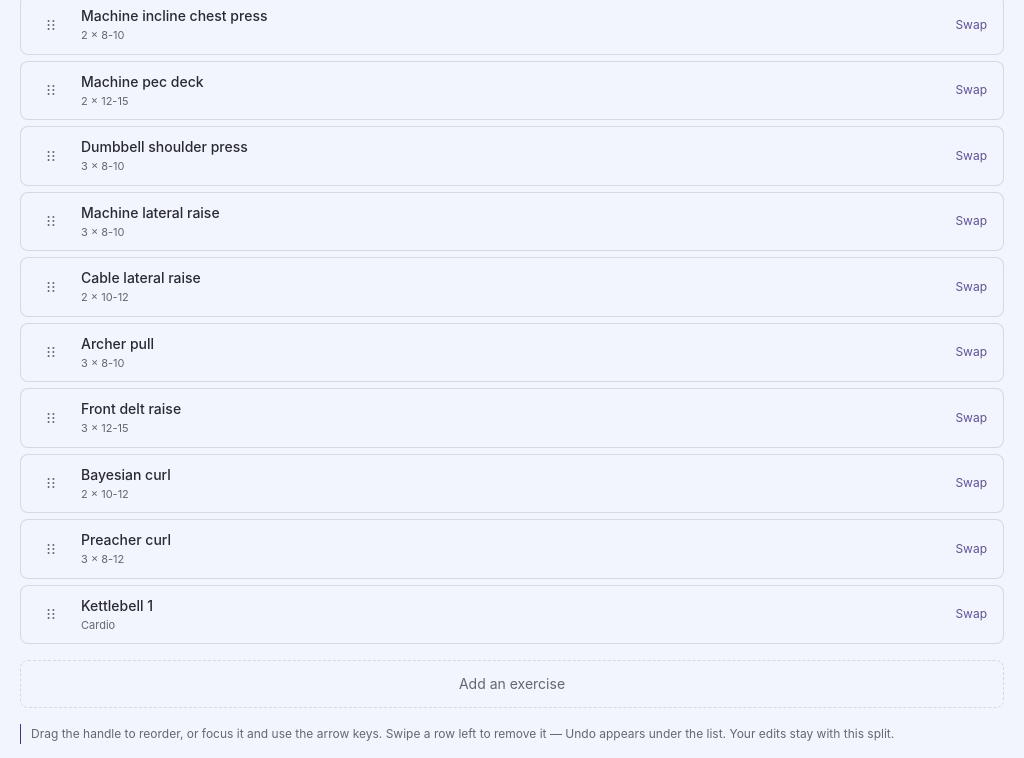
Test: the split editor › asks for no rep target on a cardio movement
(page scrolled)
Click the button "Kettlebell 1 Cardio".
click(117, 605)  # box left=81, top=592, right=939, bottom=637
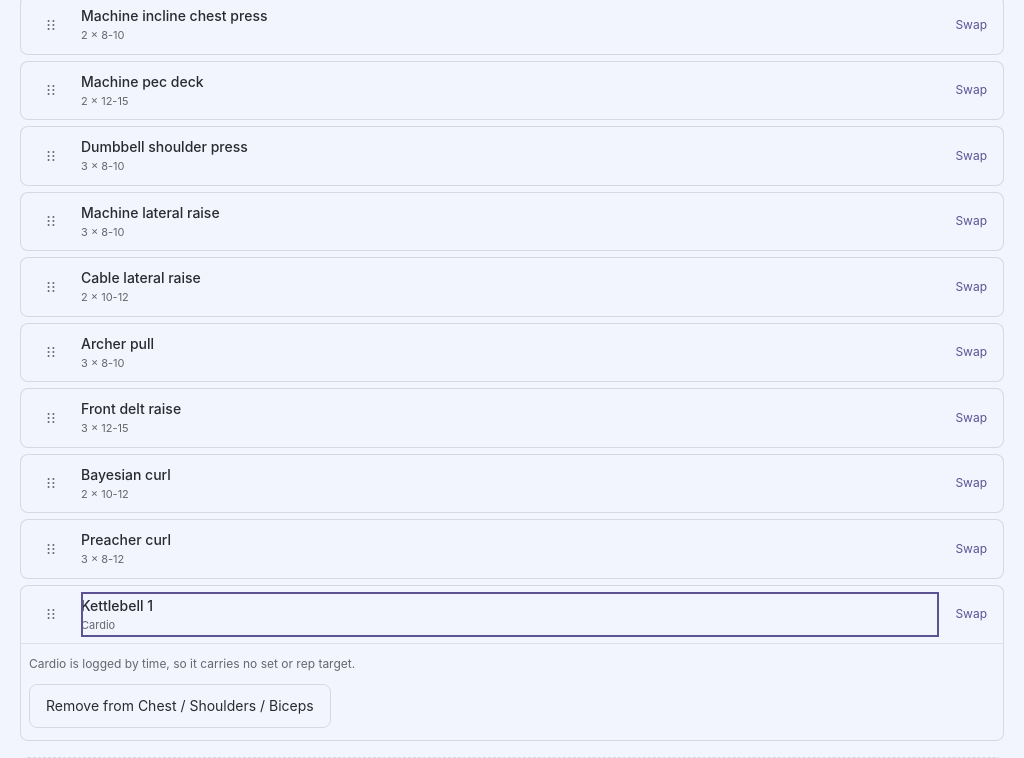
Check: the text "Cardio is logged by time, so it carries no set or rep target." is shown, box left=29, top=656, right=355, bottom=671
